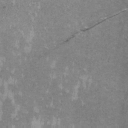finishing roll printing: (61, 9, 128, 46)
